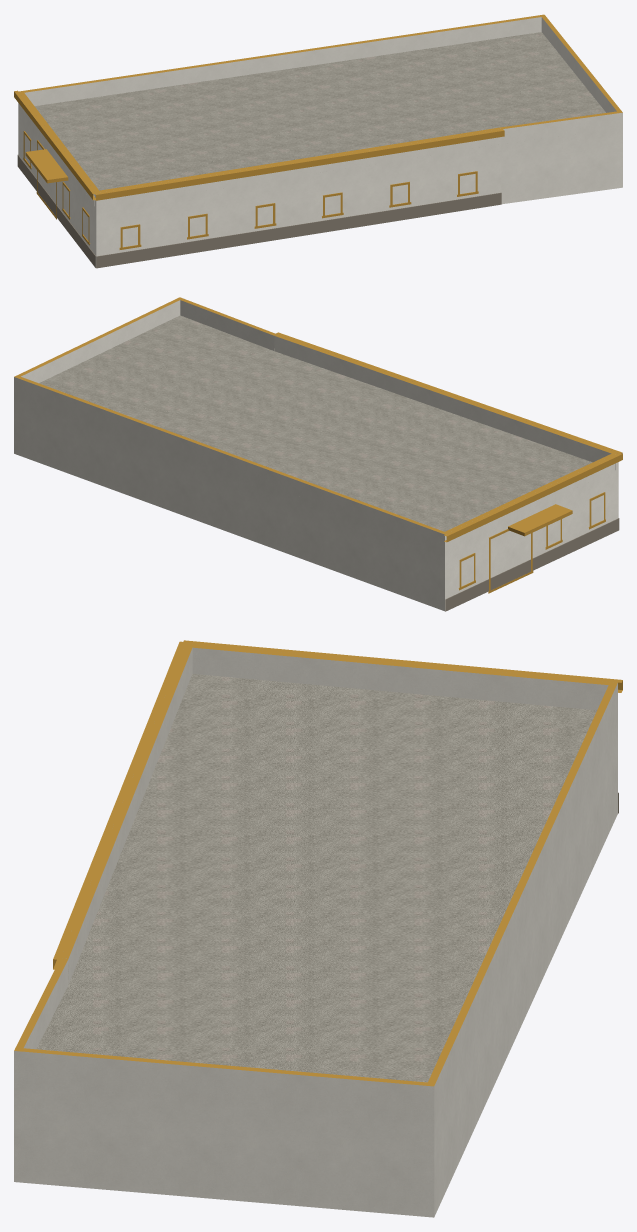
3 renders of one model, top to bottom at view 1: azimuth 30°, elevation 25°; view 2: azimuth 150°, elevation 25°; view 3: azimuth 270°, elevation 25°, orthographic. The views are drawn at different scales.
Parts seen in each view (by area): view 1: B-w1347199960_lejos, B-w1347199960_muros, B-w1347199960_cubierta, B-w1347199960_molduras, B-w1347199960_remates; view 2: B-w1347199960_lejos, B-w1347199960_cubierta, B-w1347199960_muros, B-w1347199960_molduras, B-w1347199960_remates; view 3: B-w1347199960_lejos, B-w1347199960_cubierta, B-w1347199960_muros, B-w1347199960_molduras.
Part boxes in pixels (x1,y1,x2,y2): B-w1347199960_lejos: (25, 32, 622, 267); B-w1347199960_muros: (18, 103, 622, 250); B-w1347199960_cubierta: (18, 14, 622, 205); B-w1347199960_molduras: (14, 90, 504, 268); B-w1347199960_remates: (25, 149, 68, 183); B-w1347199960_lejos: (14, 315, 618, 611); B-w1347199960_cubierta: (14, 297, 617, 534); B-w1347199960_muros: (14, 310, 618, 610); B-w1347199960_molduras: (276, 332, 622, 611); B-w1347199960_remates: (508, 504, 572, 536); B-w1347199960_lejos: (14, 674, 617, 1217); B-w1347199960_cubierta: (14, 643, 617, 1086); B-w1347199960_muros: (14, 683, 617, 1112); B-w1347199960_molduras: (53, 640, 622, 969).
Size of the model in its own units: 32.84 by 4.62 by 18.94.
Materials: 6 (2 with a texture image).
